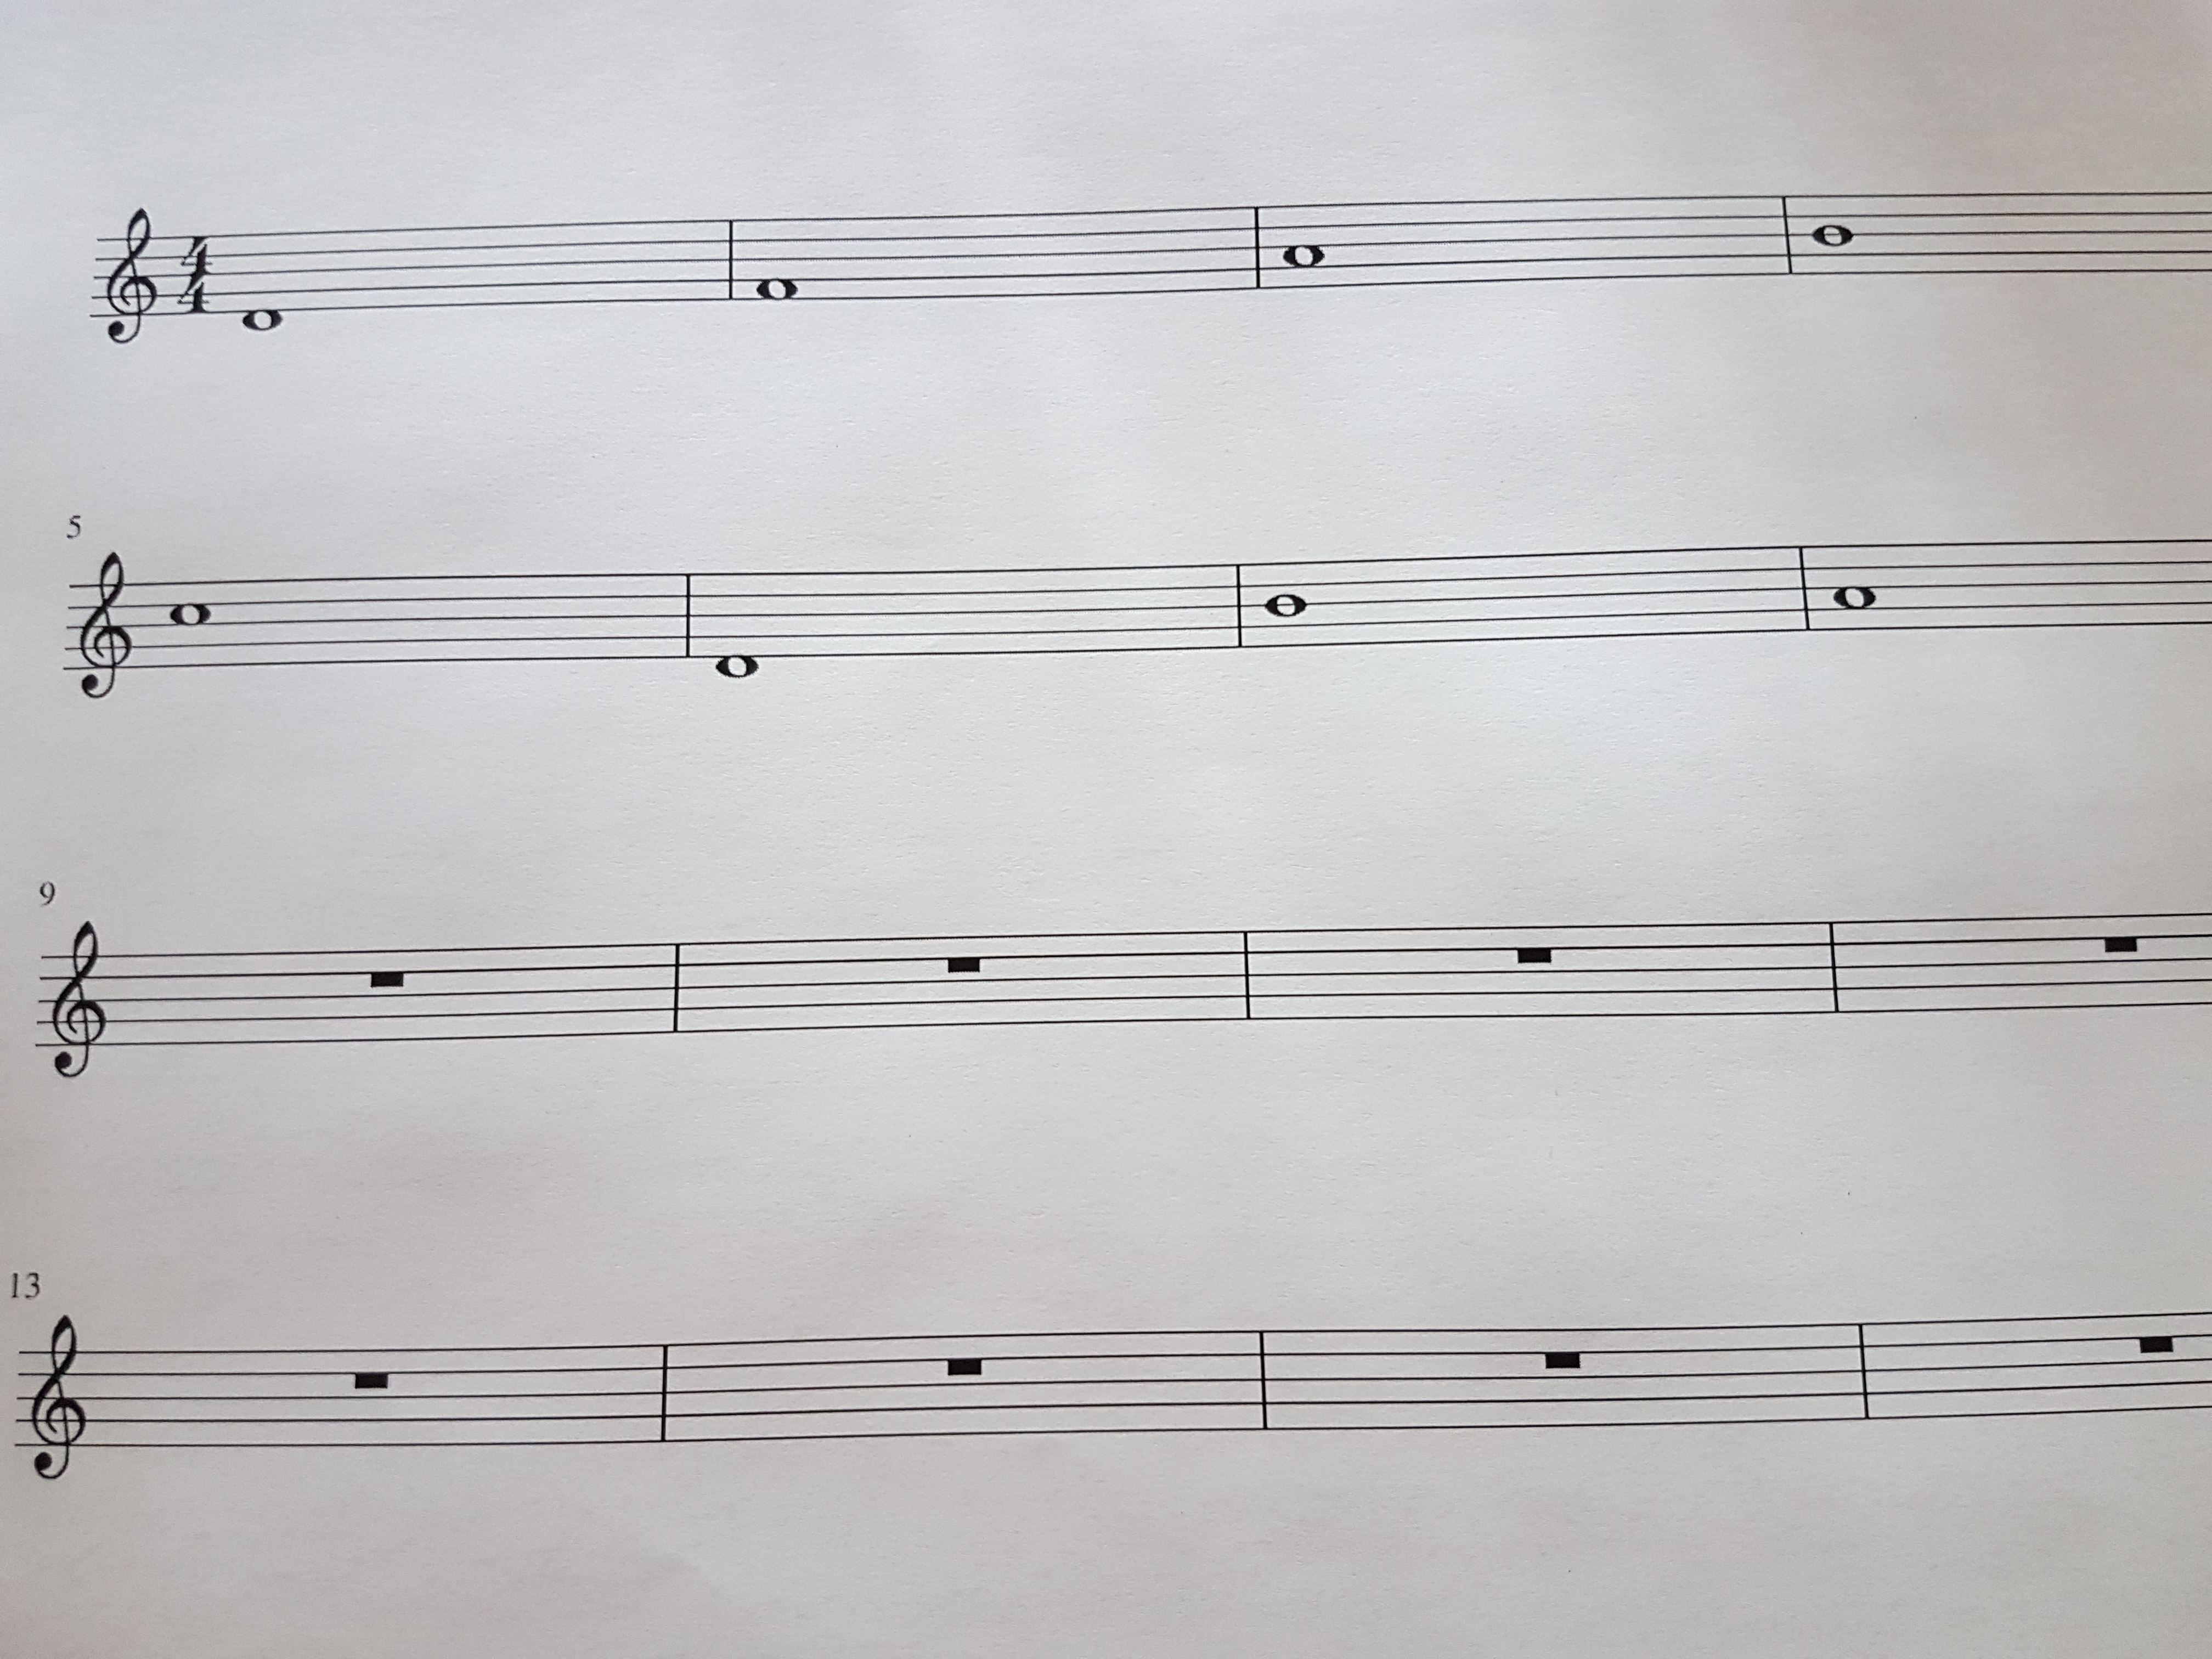key: (19, 1309, 91, 1497), (38, 913, 113, 1089), (70, 545, 136, 716), (98, 195, 162, 364)
pipe: (1848, 1304, 1883, 1439), (648, 1328, 681, 1462), (1251, 1314, 1280, 1453), (1820, 903, 1851, 1032), (1791, 528, 1818, 647), (664, 925, 688, 1051), (1224, 549, 1251, 660), (1233, 917, 1258, 1035), (676, 556, 698, 671), (1244, 195, 1268, 298), (1775, 181, 1797, 288), (719, 207, 740, 315)
semibreve_a: (1824, 514, 1883, 664), (1277, 178, 1329, 317)
semibreve_c: (157, 556, 225, 702)
semibreve_d: (230, 202, 289, 368), (709, 547, 765, 718)
semibreve_f: (745, 188, 801, 345)
semibreve_h: (1797, 167, 1864, 305), (1256, 537, 1315, 683)
